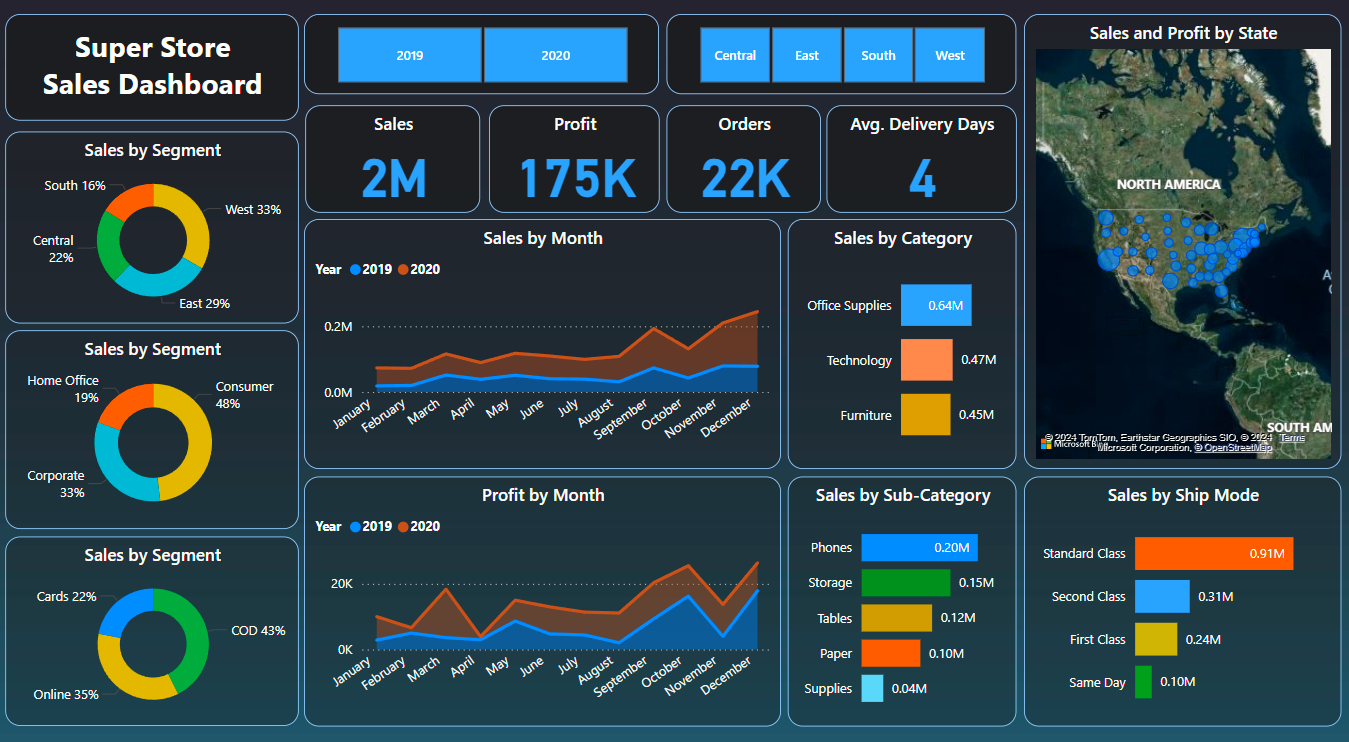

The dashboard page shown, as its layout file describes it:
{"tool":"powerbi","page":{"name":"Page 1","canvas":[1280,720],"ordinal":0},"visuals":[{"type":"clusteredBarChart","title":"Sales by Category","fields":{"Category":["SuperStore_Sales_Dataset.Category"],"Y":["Sum(SuperStore_Sales_Dataset.Sales)"]},"box":[744,216,214.8,234.2],"z":0},{"type":"clusteredBarChart","title":"Sales by Sub-Category","fields":{"Category":["SuperStore_Sales_Dataset.Sub-Category"],"Y":["Sum(SuperStore_Sales_Dataset.Sales)"]},"box":[744,457.1,214.8,234.2],"z":1000},{"type":"clusteredBarChart","title":"Sales by Ship Mode","fields":{"Category":["SuperStore_Sales_Dataset.Ship Mode"],"Y":["Sum(SuperStore_Sales_Dataset.Sales)"]},"box":[965.6,457.1,297.4,234.2],"z":2000},{"type":"donutChart","title":"Sales by Segment","fields":{"Category":["SuperStore_Sales_Dataset.Segment"],"Y":["Sum(SuperStore_Sales_Dataset.Sales)"]},"box":[10.2,320,275,186.6],"z":3000},{"type":"donutChart","title":"Sales by Segment","fields":{"Category":["SuperStore_Sales_Dataset.Payment Mode"],"Y":["Sum(SuperStore_Sales_Dataset.Sales)"]},"box":[10.2,513.4,275,177.9],"z":4000},{"type":"donutChart","title":"Sales by Segment","fields":{"Category":["SuperStore_Sales_Dataset.Region"],"Y":["Sum(SuperStore_Sales_Dataset.Sales)"]},"box":[10.2,133.4,275,179.8],"z":5000},{"type":"stackedAreaChart","title":"Sales by Month","fields":{"Y":["Sum(SuperStore_Sales_Dataset.Sales)"],"Category":["SuperStore_Sales_Dataset.Order Date.Variation.Date Hierarchy.Month","SuperStore_Sales_Dataset.Order Date.Variation.Date Hierarchy.Day"],"Series":["SuperStore_Sales_Dataset.Order Date.Variation.Date Hierarchy.Year"]},"box":[291,216,447,234],"z":6000},{"type":"stackedAreaChart","title":"Profit by Month","fields":{"Category":["SuperStore_Sales_Dataset.Order Date.Variation.Date Hierarchy.Month","SuperStore_Sales_Dataset.Order Date.Variation.Date Hierarchy.Day"],"Series":["SuperStore_Sales_Dataset.Order Date.Variation.Date Hierarchy.Year"],"Y":["Sum(SuperStore_Sales_Dataset.Profit)"]},"box":[291,457,447,234],"z":7000},{"type":"map","title":"Sales and Profit by State","fields":{"Category":["SuperStore_Sales_Dataset.State"],"Size":["Sum(SuperStore_Sales_Dataset.Sales)"]},"box":[965.6,23.6,297.4,426.7],"z":8000},{"type":"card","title":"Sales","fields":{"Values":["Sum(SuperStore_Sales_Dataset.Sales)"]},"box":[291.5,108.7,164,101],"z":9000},{"type":"card","title":"Profit","fields":{"Values":["Sum(SuperStore_Sales_Dataset.Profit)"]},"box":[463.5,108.7,160,101],"z":10000},{"type":"card","title":"Orders","fields":{"Values":["Sum(SuperStore_Sales_Dataset.Quantity)"]},"box":[630.5,108.7,145,101],"z":11000},{"type":"card","title":"Avg. Delivery Days","fields":{"Values":["Avg(SuperStore_Sales_Dataset.AvgDelivery)"]},"box":[780.5,108.7,178,101],"z":12000},{"type":"slicer","fields":{"Values":["SuperStore_Sales_Dataset.Region"]},"box":[631,24,328,75],"z":13000},{"type":"textbox","box":[10.5,23.7,275,100],"z":14000},{"type":"slicer","fields":{"Values":["SuperStore_Sales_Dataset.Order Date.Variation.Date Hierarchy.Year"]},"box":[291,24,333,75],"z":15000}]}

Visuals, with their boxes in screenshot pixels (x1, y1, x2, y2), scaled from the page's 1280x720 canvas onto the 1349x742 screenshot:
"Sales by Category" clusteredBarChart: bbox=(784, 223, 1010, 464)
"Sales by Sub-Category" clusteredBarChart: bbox=(784, 471, 1010, 712)
"Sales by Ship Mode" clusteredBarChart: bbox=(1018, 471, 1331, 712)
"Sales by Segment" donutChart: bbox=(11, 330, 301, 522)
"Sales by Segment" donutChart: bbox=(11, 529, 301, 712)
"Sales by Segment" donutChart: bbox=(11, 137, 301, 323)
"Sales by Month" stackedAreaChart: bbox=(307, 223, 778, 464)
"Profit by Month" stackedAreaChart: bbox=(307, 471, 778, 712)
"Sales and Profit by State" map: bbox=(1018, 24, 1331, 464)
"Sales" card: bbox=(307, 112, 480, 216)
"Profit" card: bbox=(488, 112, 657, 216)
"Orders" card: bbox=(664, 112, 817, 216)
"Avg. Delivery Days" card: bbox=(823, 112, 1010, 216)
slicer - SuperStore_Sales_Dataset.Region: bbox=(665, 25, 1011, 102)
textbox: bbox=(11, 24, 301, 127)
slicer - SuperStore_Sales_Dataset.Order Date.Variation.Date Hierarchy.Year: bbox=(307, 25, 658, 102)
